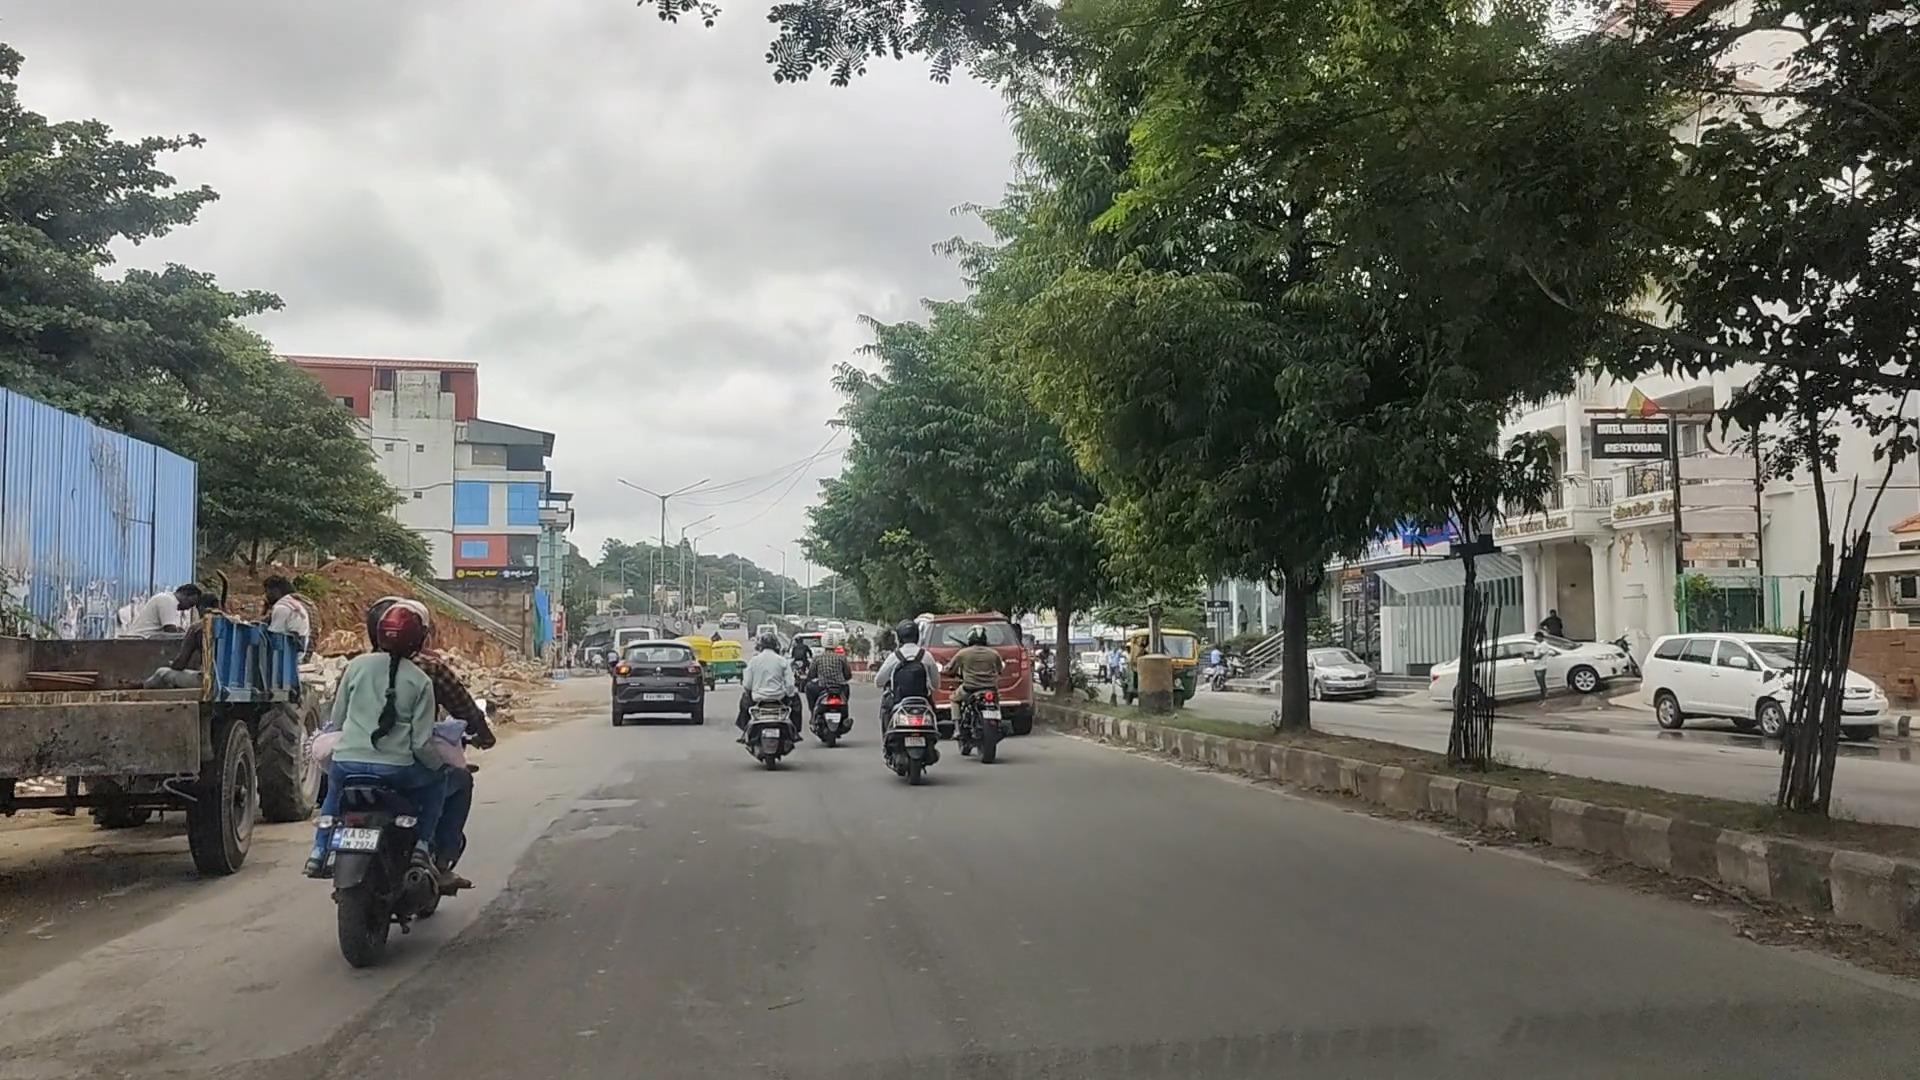LMV: (334, 596, 473, 951), (881, 630, 953, 786), (611, 633, 699, 725), (955, 620, 1006, 766), (740, 637, 800, 757), (810, 626, 853, 741)
RoadDamages: (241, 980, 443, 1080), (0, 980, 166, 1080), (530, 766, 634, 861)
